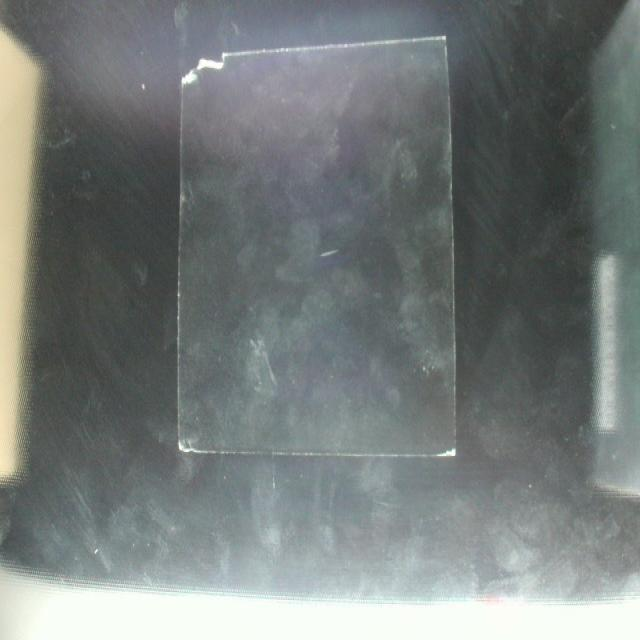edge_chip: (176, 38, 234, 104), (429, 418, 461, 468), (176, 428, 205, 473)
